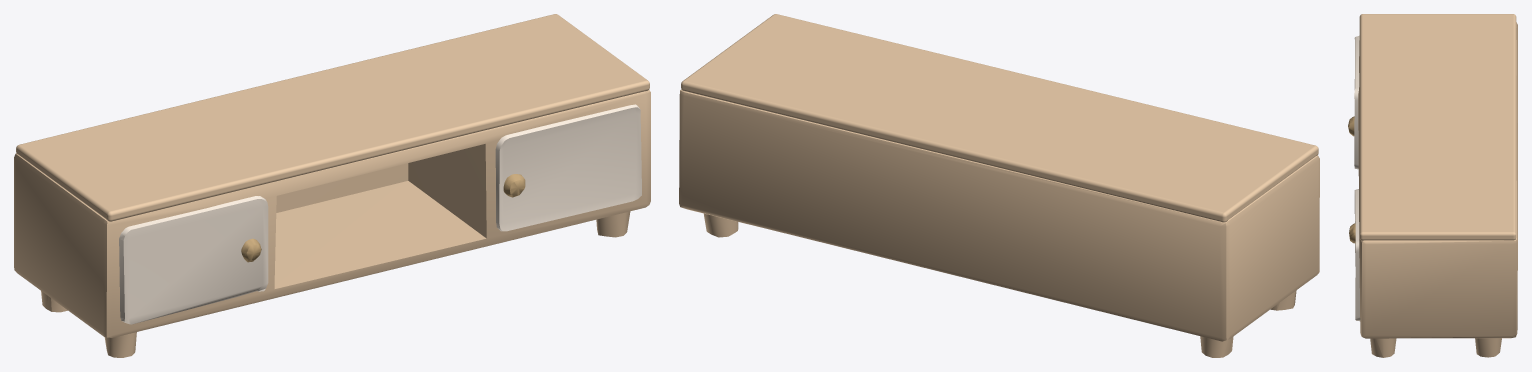
The model's file is media_cabinet.glb.
3 renders of one model, left to right at view 1: azimuth 30°, elevation 25°; view 2: azimuth 150°, elevation 25°; view 3: azimuth 270°, elevation 25°, orthographic. The views are drawn at different scales.
Size of the model in its own units: 3.4 by 0.9235 by 1.1.
